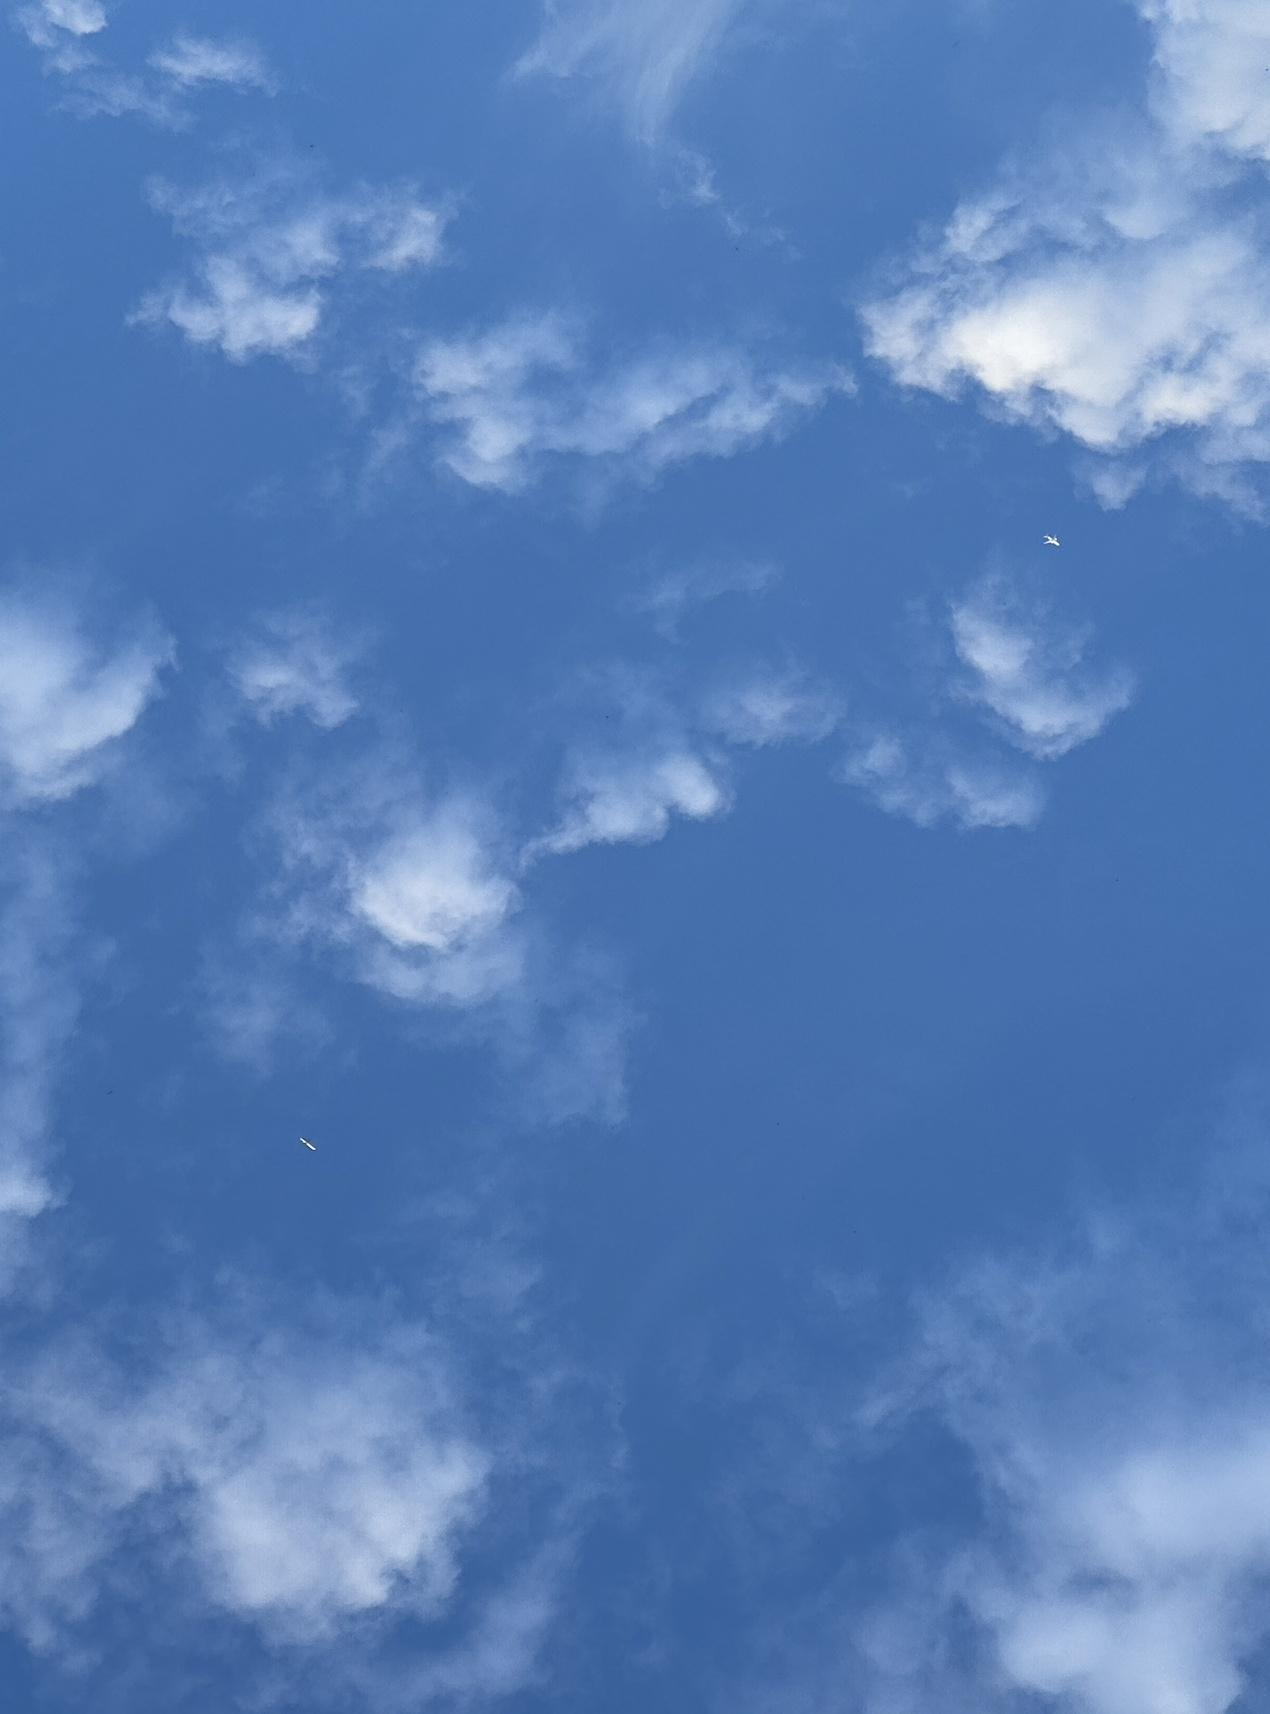Plane: (1022, 519, 1081, 570), (273, 1124, 339, 1159)
